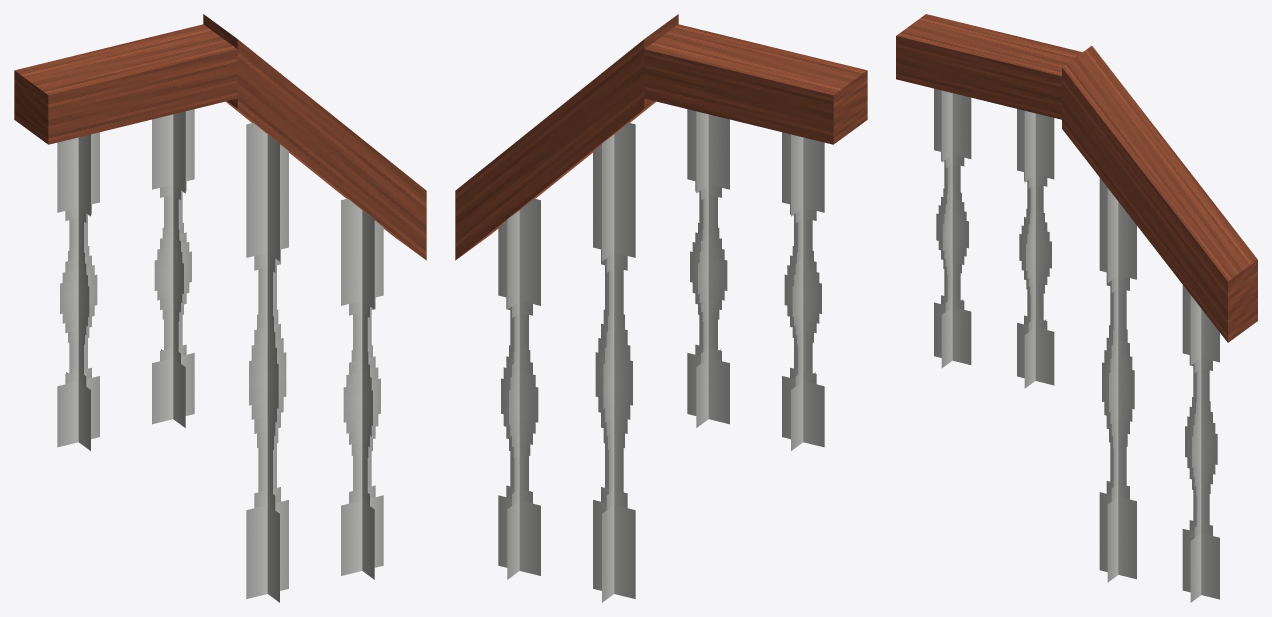
File: top_neg.obj
3 renders of one model, left to right at view 1: azimuth 30°, elevation 25°; view 2: azimuth 150°, elevation 25°; view 3: azimuth 330°, elevation 25°, orthographic. The views are drawn at different scales.
Visible parts, largest first — view 1: railing_turned_cherry_top_neg; view 2: railing_turned_cherry_top_neg; view 3: railing_turned_cherry_top_neg.
Boxes of the visible parts, x1,y1,x2,y2 form: railing_turned_cherry_top_neg: [14, 14, 426, 602]; railing_turned_cherry_top_neg: [455, 14, 867, 602]; railing_turned_cherry_top_neg: [896, 14, 1257, 602].
Size of the model in its own units: 1 by 1.46 by 0.1562.
